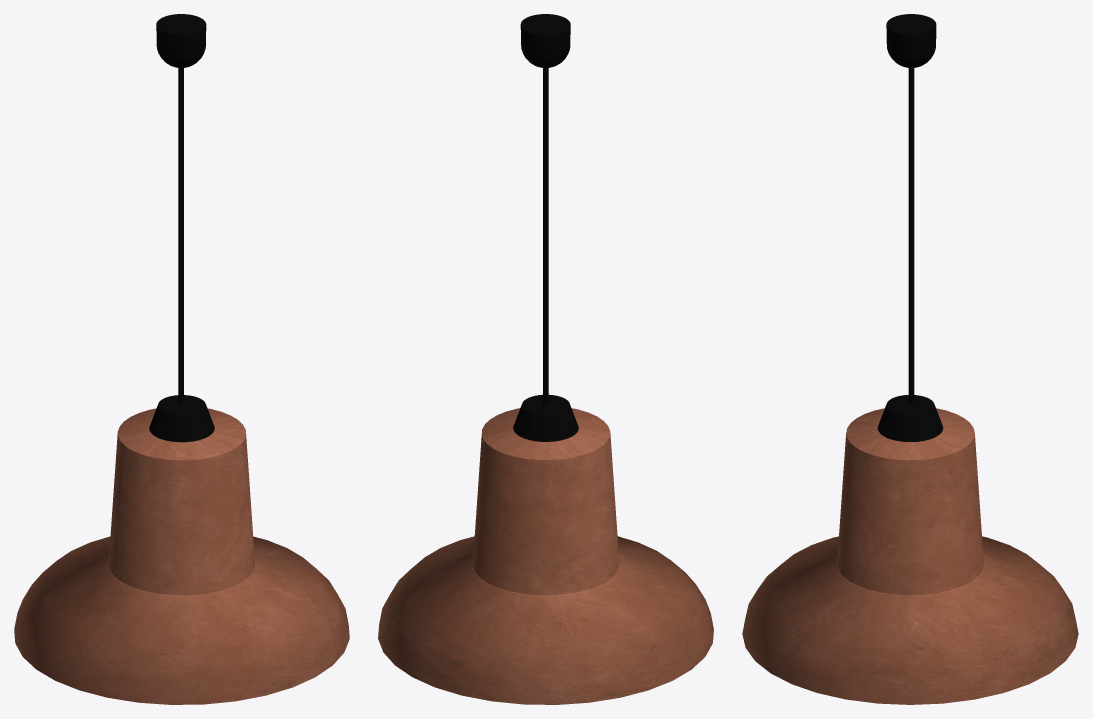
The model's file is Ceiling lamp 2.FBX.
3 views of the same model, side by side, from view 1: azimuth 30°, elevation 25°; view 2: azimuth 150°, elevation 25°; view 3: azimuth 270°, elevation 25° (orthographic).
Parts seen in each view (by area): view 1: Ceiling lamp; view 2: Ceiling lamp; view 3: Ceiling lamp.
Boxes of the visible parts, x1,y1,x2,y2 form: Ceiling lamp: (14,14,349,704); Ceiling lamp: (378,14,713,704); Ceiling lamp: (742,14,1078,704).
Size of the model in its own units: 44.48 by 88.9 by 44.48.
3 materials, 1 textured.
